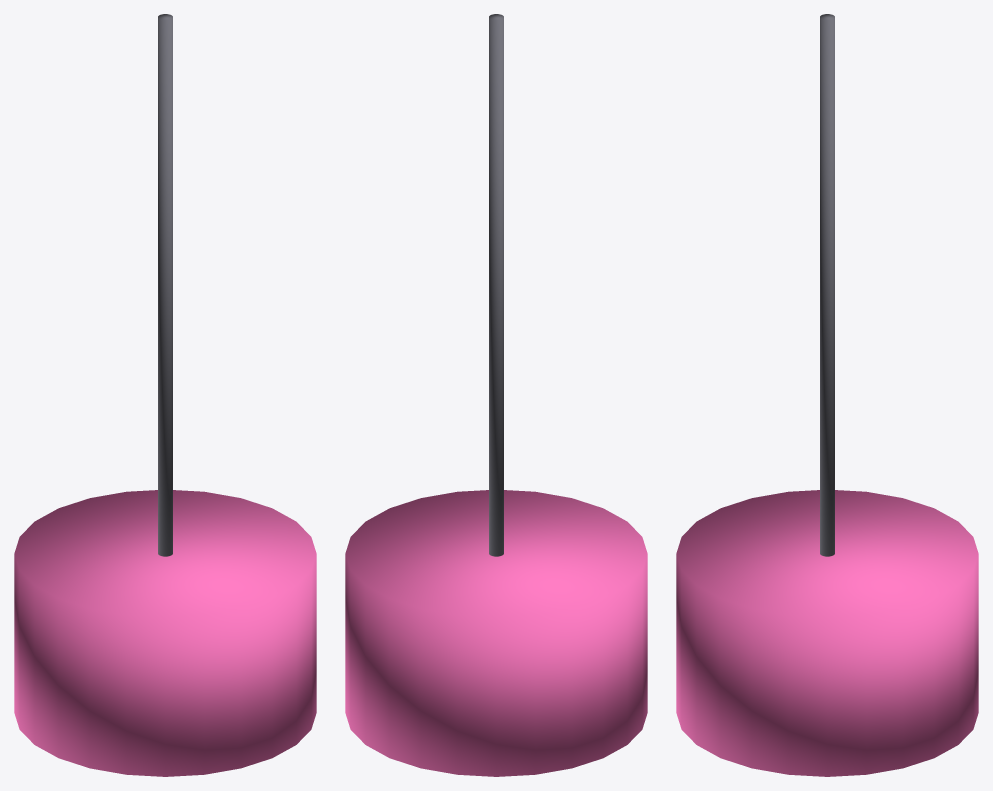
The model's file is pendant_light.glb.
The picture shows the model from 3 angles, left to right: view 1: azimuth 30°, elevation 25°; view 2: azimuth 150°, elevation 25°; view 3: azimuth 270°, elevation 25°; orthographic projection.
Parts seen in each view (by area): view 1: shade, cord; view 2: shade, cord; view 3: shade, cord.
Boxes of the visible parts, x1,y1,x2,y2 form: shade: (14, 490, 316, 776); cord: (158, 14, 172, 556); shade: (345, 490, 647, 776); cord: (489, 14, 503, 556); shade: (676, 490, 978, 776); cord: (820, 14, 834, 556).
Size of the model in its own units: 0.6 by 1.59 by 0.6.
